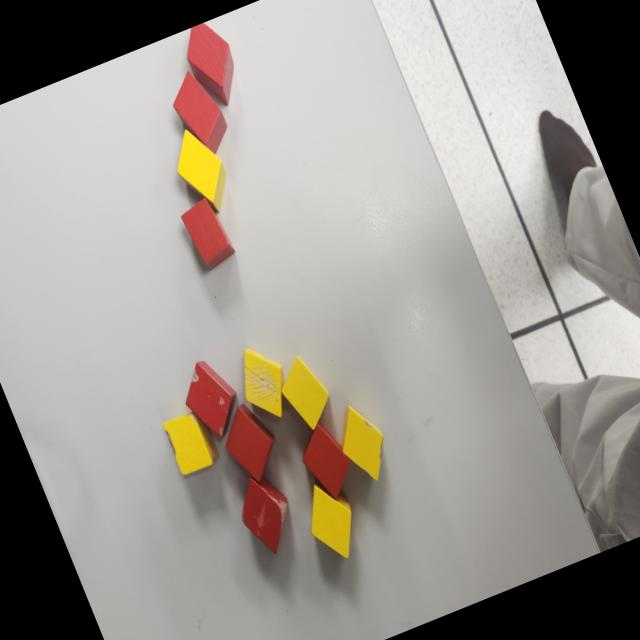broken: (228, 464, 306, 560), (172, 352, 249, 446), (326, 396, 398, 489), (228, 338, 299, 428), (160, 406, 222, 477)
red: (211, 396, 289, 492), (162, 64, 236, 164), (176, 17, 249, 112), (291, 415, 363, 507), (177, 194, 238, 274)
yellow: (163, 120, 240, 220), (294, 472, 368, 566), (270, 349, 340, 438)
